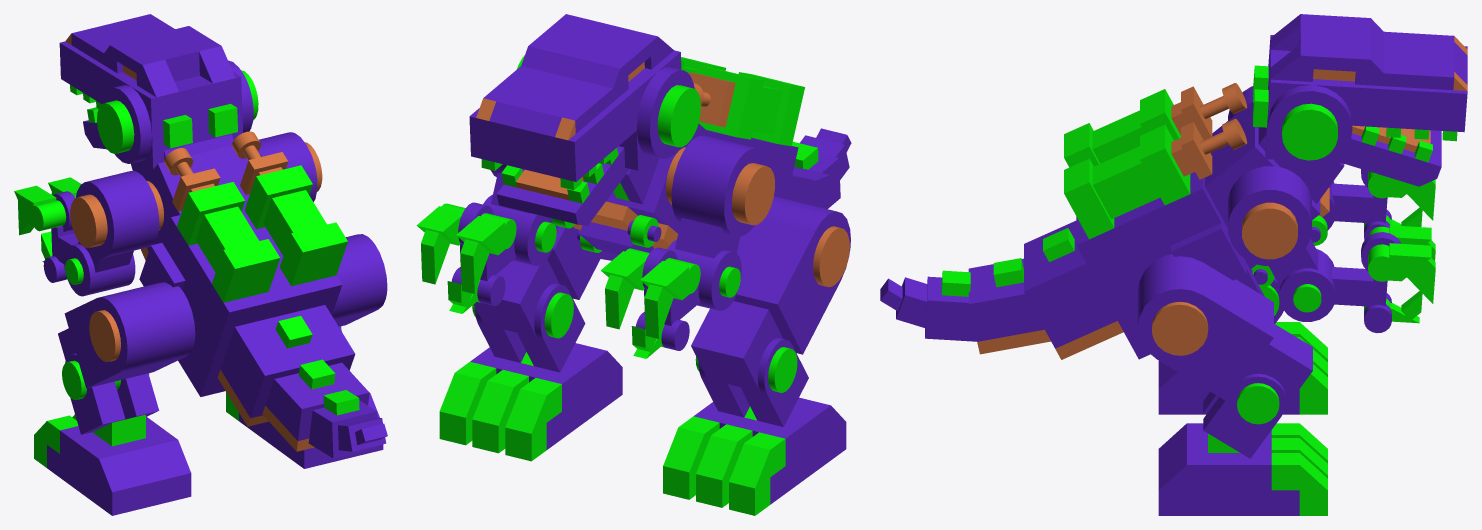
File: machine_dinosaur.obj
3 views of the same model, side by side, from view 1: azimuth 30°, elevation 25°; view 2: azimuth 150°, elevation 25°; view 3: azimuth 270°, elevation 25° (orthographic). The views are drawn at different scales.
Parts seen in each view (by area): view 1: LowerTorso, Head, Tail, LeftFoot, LeftUpperLeg, LeftUpperArm, LeftLowerLeg, LeftLowerArm, RightUpperLeg, UpperTorso, RightFoot, RightUpperArm (+1 smaller); view 2: Head, LeftUpperLeg, RightFoot, LeftFoot, LeftUpperArm, LowerTorso, LeftLowerArm, RightLowerArm, UpperTorso, RightUpperLeg, Mouth, LeftLowerLeg (+3 smaller); view 3: LowerTorso, Head, Tail, RightUpperLeg, RightFoot, RightUpperArm, RightLowerArm, UpperTorso, RightLowerLeg, Mouth, LeftFoot, LeftLowerArm.
Boxes of the visible parts, bbox=[...] form: LowerTorso: bbox=[139, 131, 347, 396]; Head: bbox=[59, 14, 258, 170]; Tail: bbox=[217, 305, 387, 458]; LeftFoot: bbox=[34, 414, 191, 515]; LeftUpperLeg: bbox=[58, 282, 195, 388]; LeftUpperArm: bbox=[64, 170, 163, 296]; LeftLowerLeg: bbox=[62, 353, 159, 434]; LeftLowerArm: bbox=[14, 177, 81, 282]; RightUpperLeg: bbox=[332, 234, 387, 326]; UpperTorso: bbox=[131, 134, 249, 260]; RightFoot: bbox=[226, 392, 383, 468]; RightUpperArm: bbox=[258, 132, 322, 201]; Head: bbox=[469, 14, 700, 190]; LeftUpperLeg: bbox=[691, 196, 850, 391]; RightFoot: bbox=[439, 343, 622, 461]; LeftFoot: bbox=[663, 397, 846, 515]; LeftUpperArm: bbox=[666, 135, 774, 310]; LowerTorso: bbox=[565, 57, 804, 260]; LeftLowerArm: bbox=[601, 247, 700, 358]; RightLowerArm: bbox=[416, 202, 516, 313]; UpperTorso: bbox=[551, 123, 714, 254]; RightUpperLeg: bbox=[474, 226, 600, 337]; Mouth: bbox=[496, 146, 629, 225]; LeftLowerLeg: bbox=[695, 338, 808, 426]; LowerTorso: bbox=[1064, 83, 1264, 359]; Head: bbox=[1253, 14, 1467, 167]; Tail: bbox=[880, 221, 1123, 359]; RightUpperLeg: bbox=[1137, 254, 1312, 407]; RightFoot: bbox=[1158, 423, 1327, 515]; RightUpperArm: bbox=[1228, 166, 1335, 321]; RightLowerArm: bbox=[1332, 225, 1435, 333]; UpperTorso: bbox=[1205, 101, 1344, 287]; RightLowerLeg: bbox=[1203, 373, 1286, 458]; Mouth: bbox=[1344, 125, 1441, 186]; LeftFoot: bbox=[1158, 322, 1327, 414]; LeftLowerArm: bbox=[1332, 169, 1435, 240].
Bounding box in the file's own units: 24 × 32.08 × 41.66.
